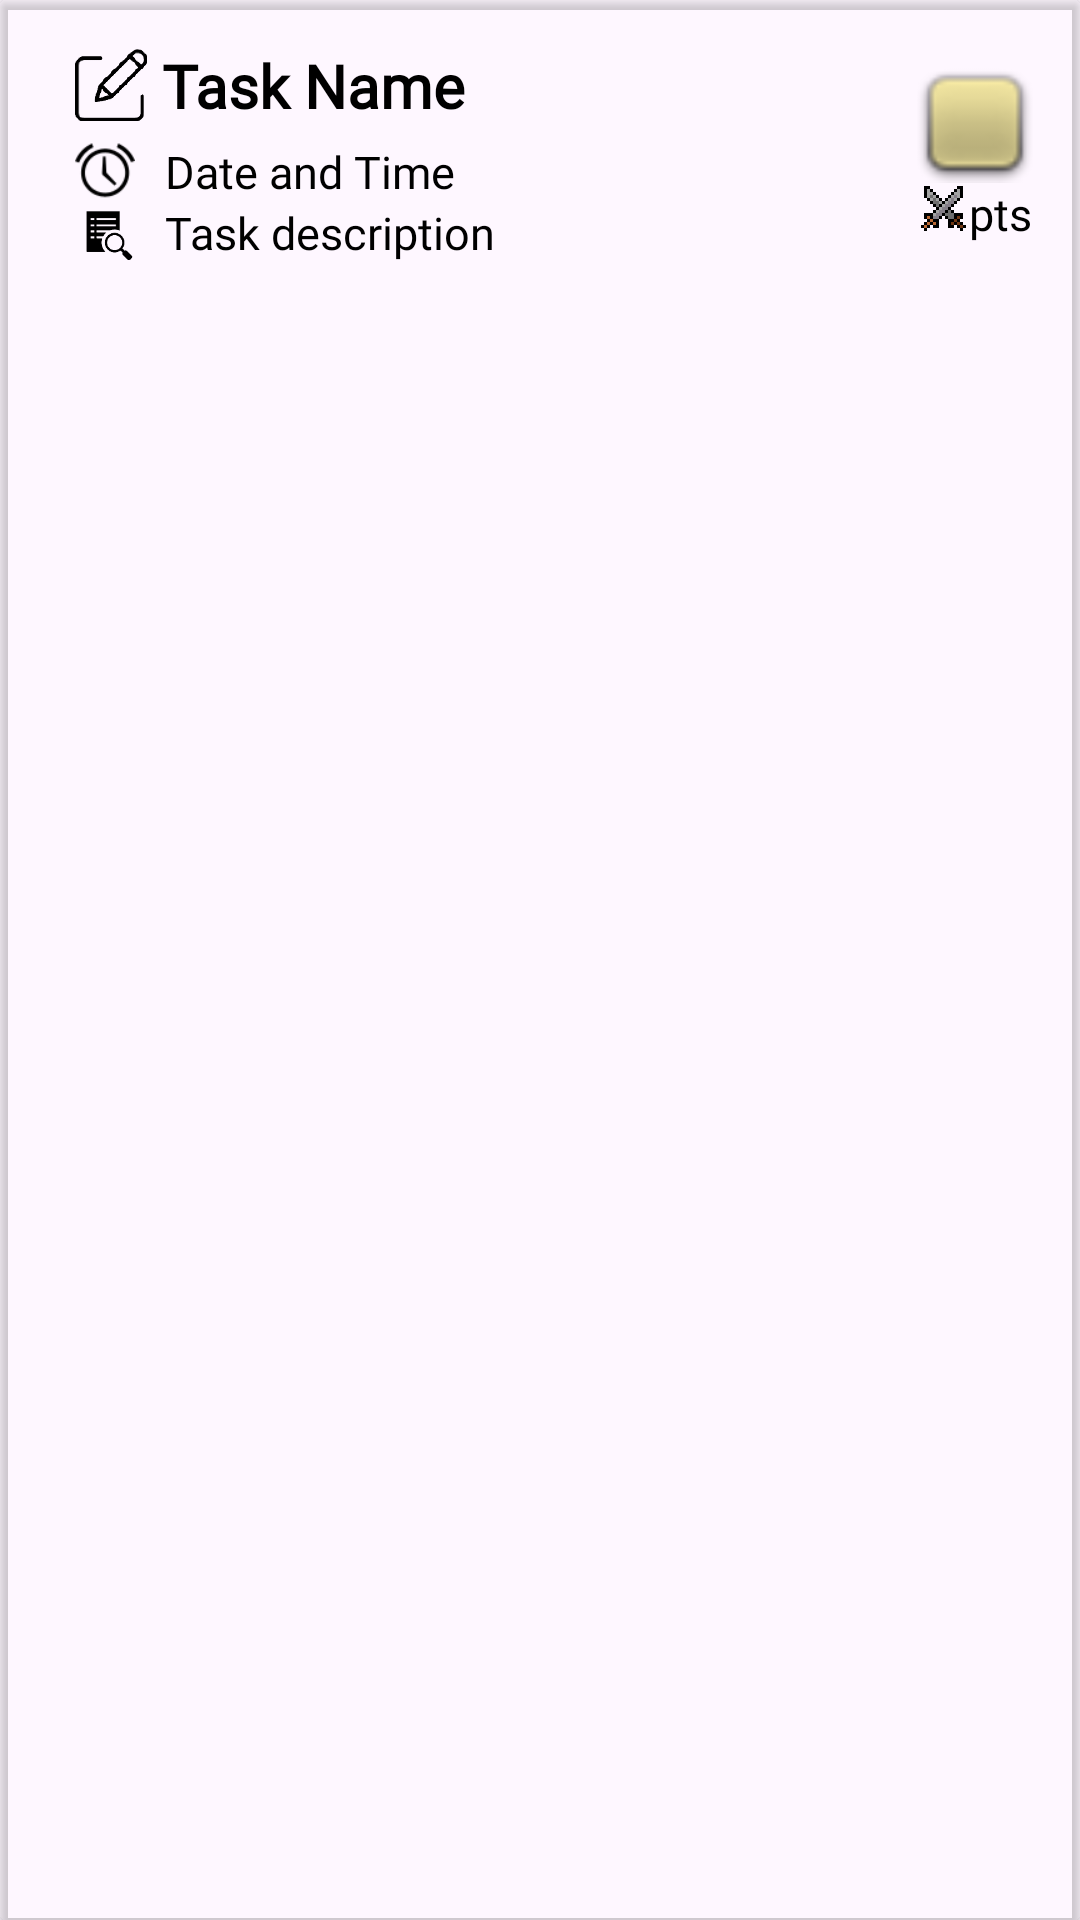

Icon click points for this 1080w x 1920h phone screenshot, format [x,y]:
edit: [111,85]
lock idle alarm: [105,170]
